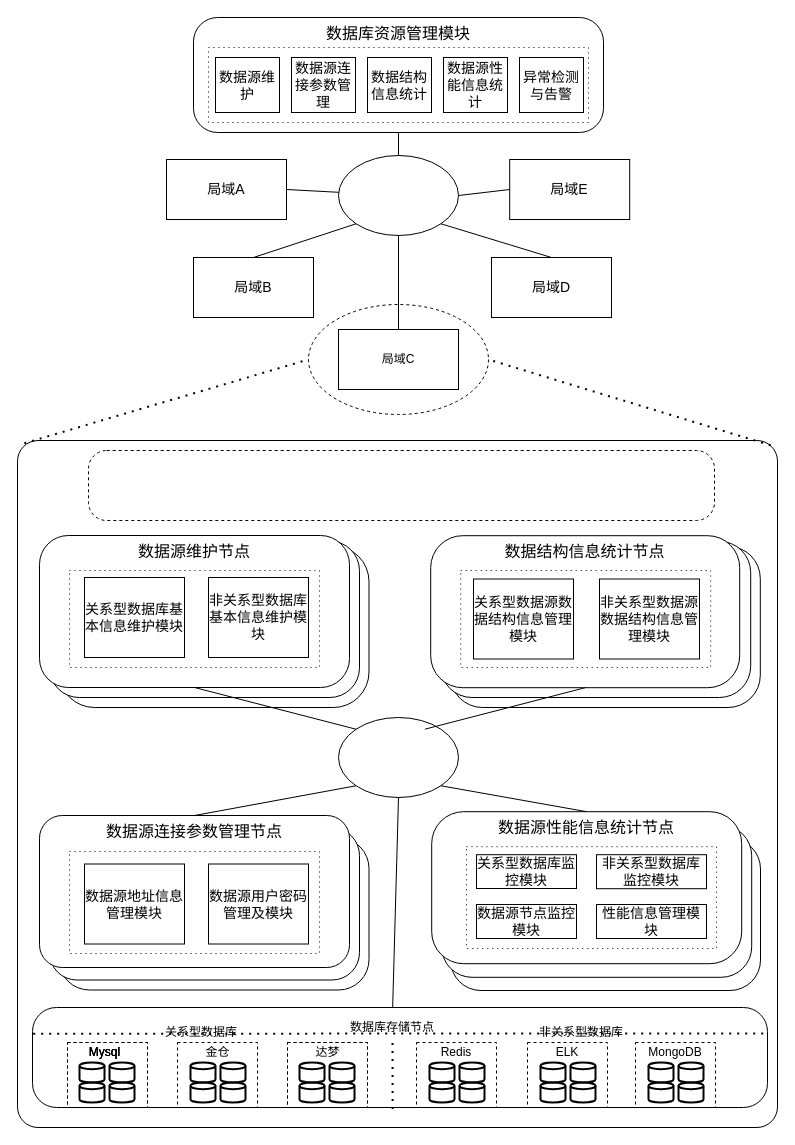
The diagram is 795 pixels wide and 1145 high, and some of its shapes have lost their labels. The centre of each missing label's shape, as x and y in pixels:
局域网: (398,757)
平台访问接口: (401,485)
跨域局域网: (398,195)
